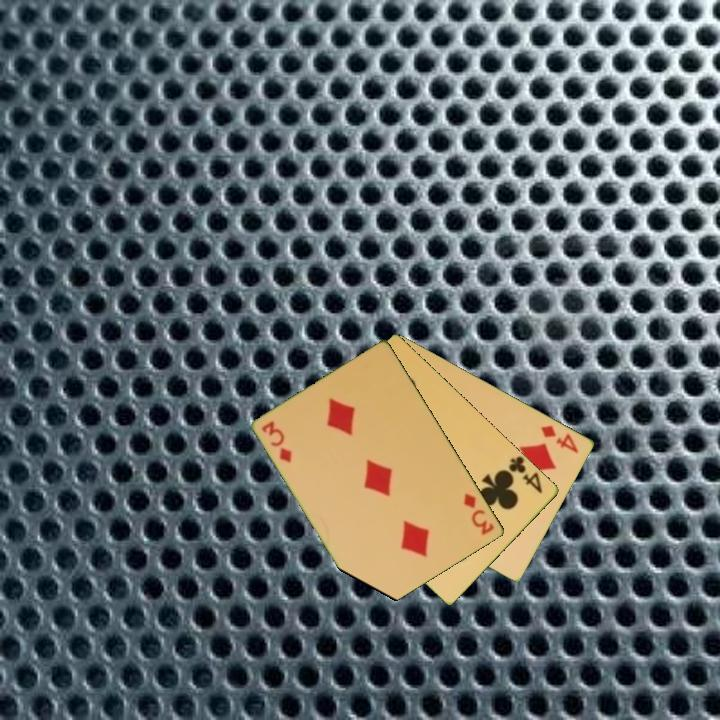3d: (460, 490, 498, 538), (259, 417, 295, 466)
4c: (506, 452, 546, 496)
4d: (538, 421, 582, 456)
